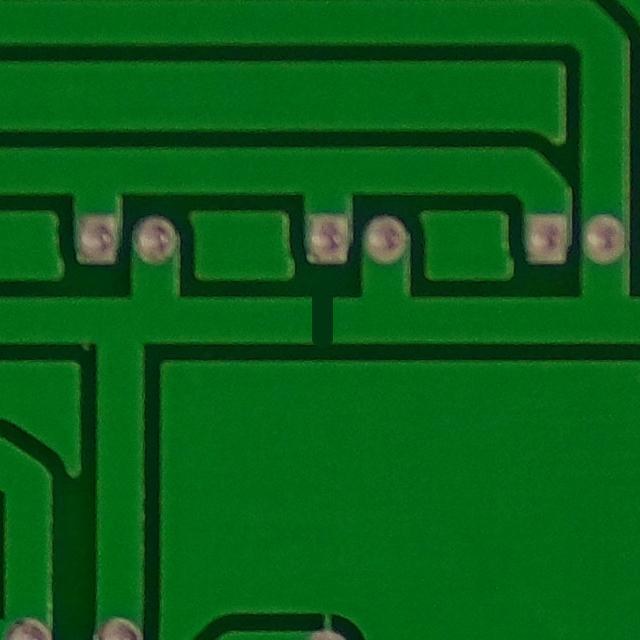open_circuit: (285, 286, 355, 354)
